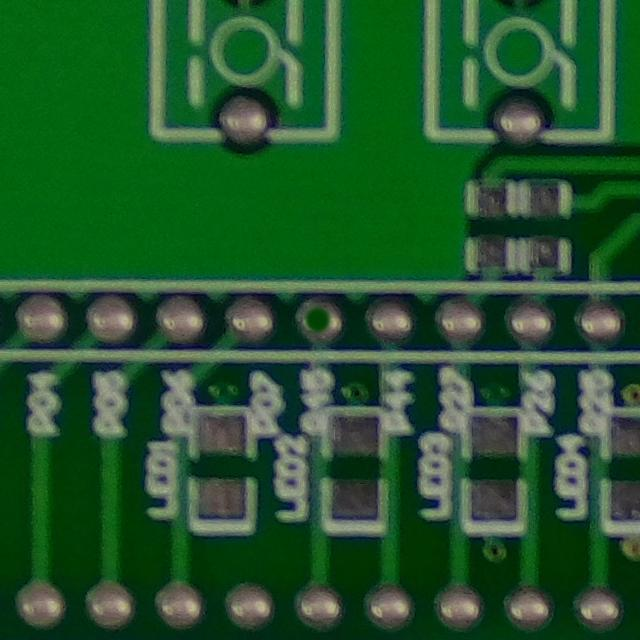missing_hole: (288, 289, 353, 351)
